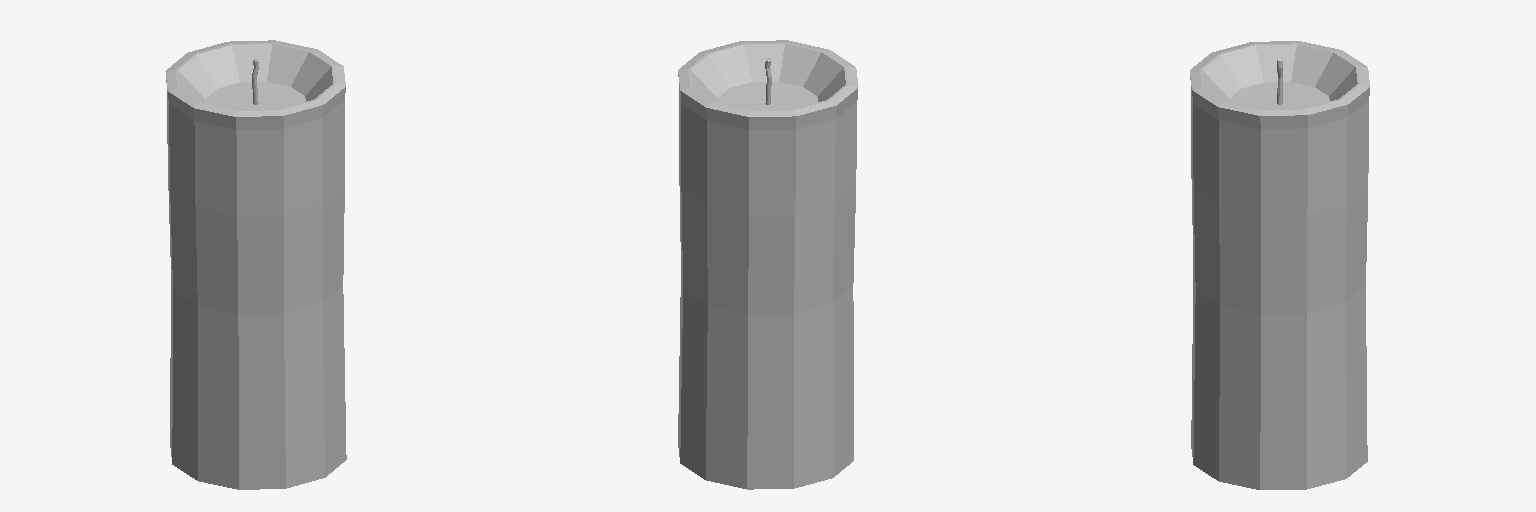
Rendered from candle_middle.obj.
The picture shows the model from 3 angles: view 1: azimuth 30°, elevation 25°; view 2: azimuth 150°, elevation 25°; view 3: azimuth 270°, elevation 25°; orthographic projection.
Parts seen in each view (by area): view 1: pCylinder6; view 2: pCylinder6; view 3: pCylinder6.
Part boxes in pixels (x1,y1,x2,y2): pCylinder6: (165, 40, 346, 489); pCylinder6: (678, 40, 858, 489); pCylinder6: (1190, 41, 1369, 489).
Bounding box in the file's own units: 30.21 × 72.58 × 30.1.